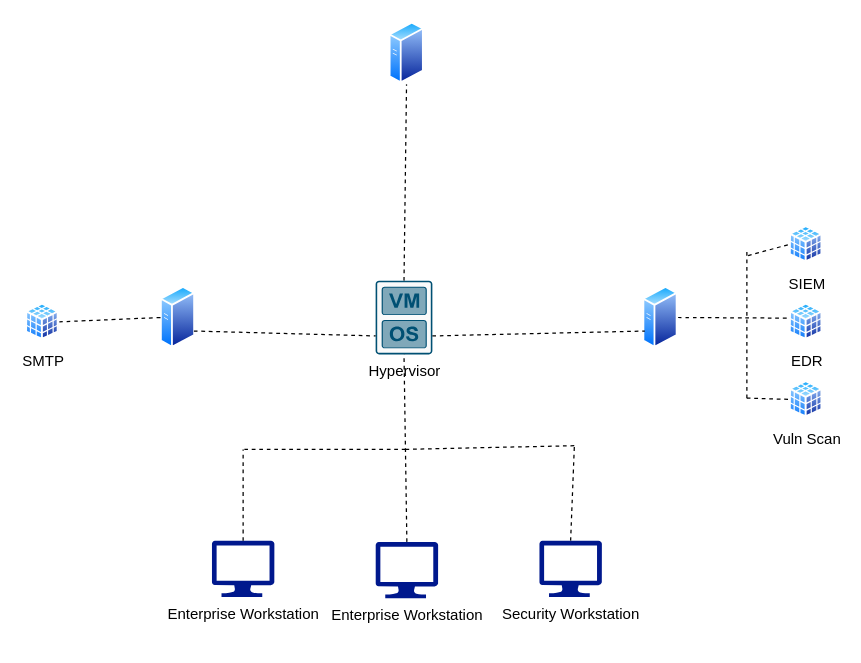
Some shapes in this 861 by 663 pixel diagram are drawn without their labels. Each missing label, with the centre of its shape:
"Directory Services Server" belongs at [406,52].
"E-Mail Server" belongs at [177,317].
"Sec Box" belongs at [660,317].
